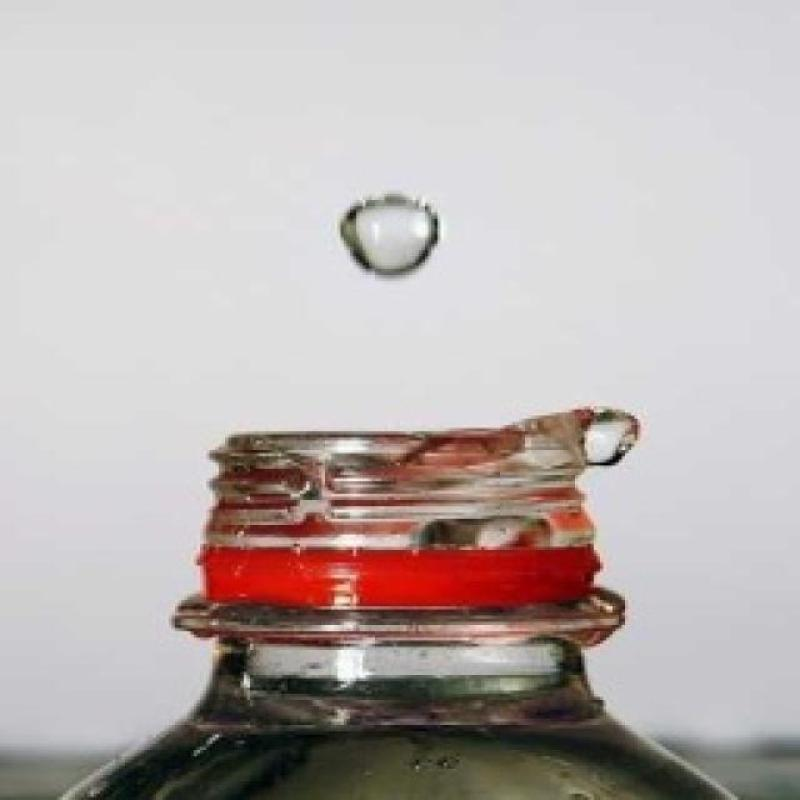botella: (57, 427, 744, 800)
